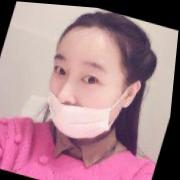WRONG: (39, 48, 136, 144)
